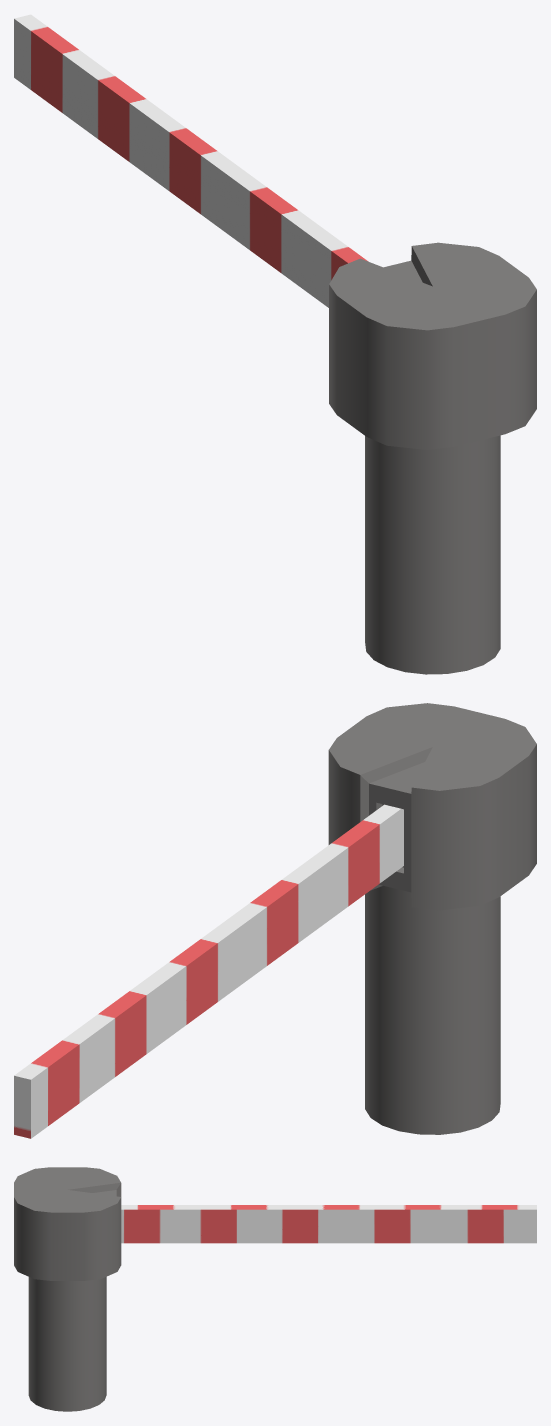
File: GateArm1Sided.fbx
3 renders of one model, top to bottom at view 1: azimuth 30°, elevation 25°; view 2: azimuth 150°, elevation 25°; view 3: azimuth 270°, elevation 25°, orthographic. The views are drawn at different scales.
Parts seen in each view (by area): view 1: Pole, Arm_L; view 2: Pole, Arm_L; view 3: Pole, Arm_L.
Boxes of the visible parts, x1,y1,x2,y2 form: Pole: [329, 242, 536, 674]; Arm_L: [14, 14, 368, 307]; Pole: [328, 703, 536, 1134]; Arm_L: [14, 804, 403, 1138]; Pole: [14, 1167, 121, 1411]; Arm_L: [121, 1205, 536, 1243].
Bounding box in the file's own units: 2.75 × 5.82 × 13.42.
Materials: 2 (1 with a texture image).
